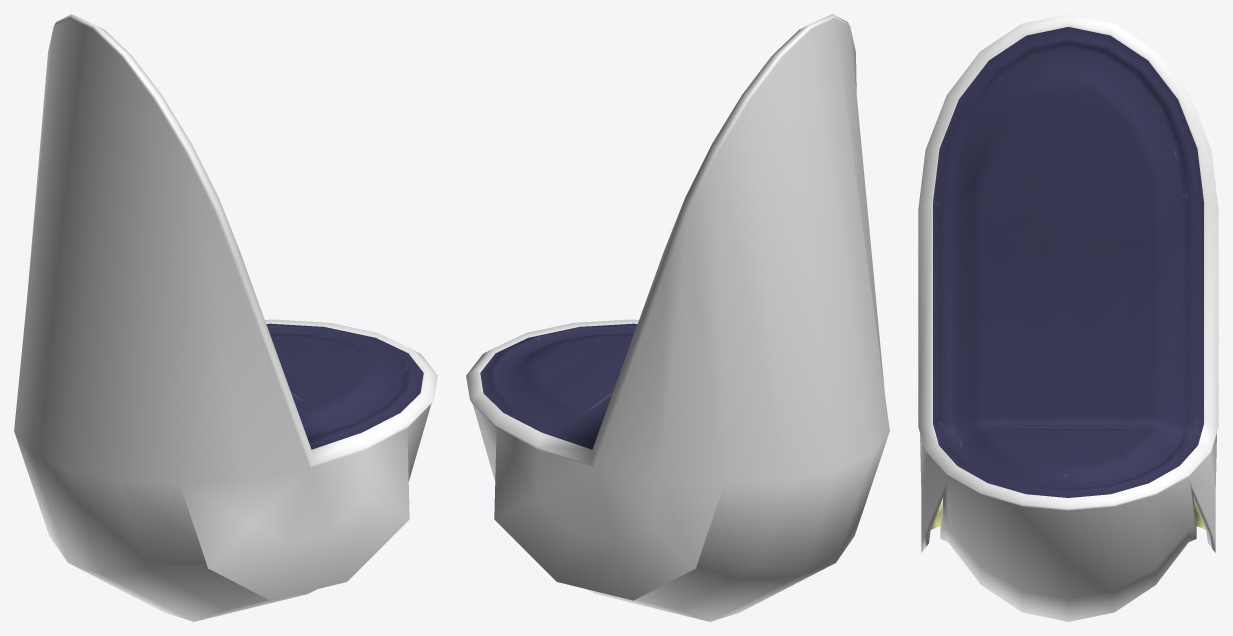
Rendered from Bridge_Chair_03_Mesh.fbx.
3 renders of one model, left to right at view 1: azimuth 30°, elevation 25°; view 2: azimuth 150°, elevation 25°; view 3: azimuth 270°, elevation 25°, orthographic. The views are drawn at different scales.
Parts seen in each view (by area): view 1: Bridge_Chair_03_Mesh; view 2: Bridge_Chair_03_Mesh; view 3: Bridge_Chair_03_Mesh.
Boxes of the visible parts, left/top/right/bottom form: Bridge_Chair_03_Mesh: left=14, top=14, right=437, bottom=621; Bridge_Chair_03_Mesh: left=466, top=14, right=889, bottom=621; Bridge_Chair_03_Mesh: left=918, top=14, right=1218, bottom=621.
Size of the model in its own units: 293 by 434 by 224.
